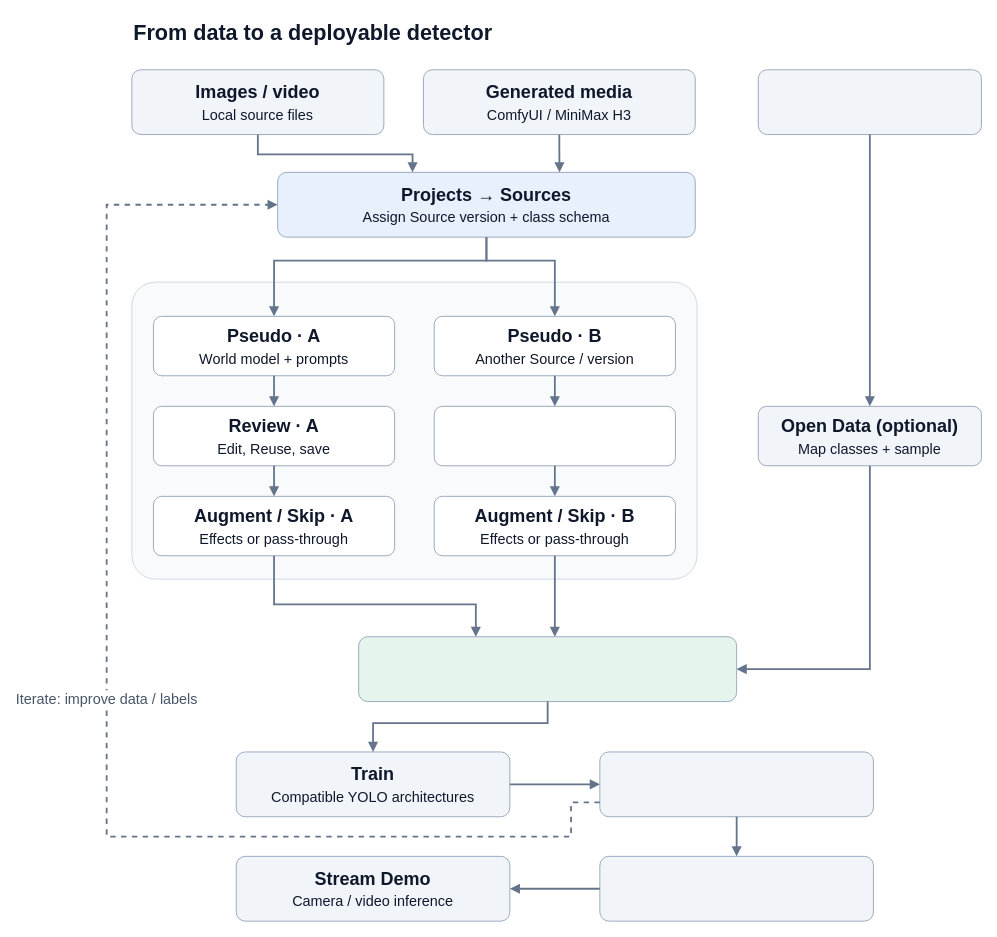
Some shapes in this 997 by 937 pixel diagram are drawn without their labels. The box of each missing label's shape, as (x1, y1, x2, y2) in pixels:
Compose → Split Combine groups + Open Data · freeze version: (358, 636, 737, 702)
Convert & Export PT / ONNX / LiteRT FP32: (599, 855, 873, 921)
Parallel groups: (131, 281, 697, 579)
Public datasets VisDrone / Platform: (757, 69, 981, 135)
Review · B Edit, Reuse, save: (433, 405, 675, 466)
Validate Samples + real-world checks: (599, 751, 873, 817)
